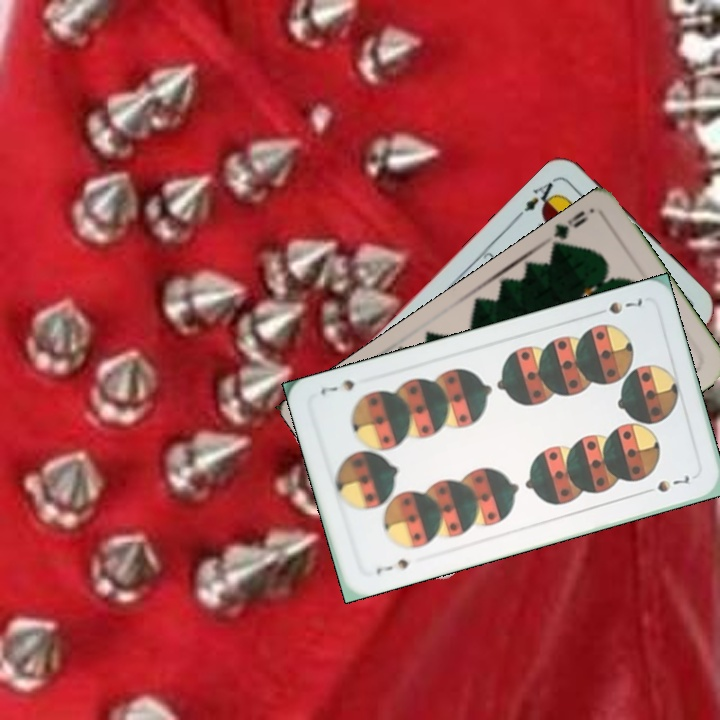EA: (519, 173, 562, 216)
G9: (548, 206, 591, 252)
S7: (590, 293, 645, 319), (372, 554, 411, 577)
